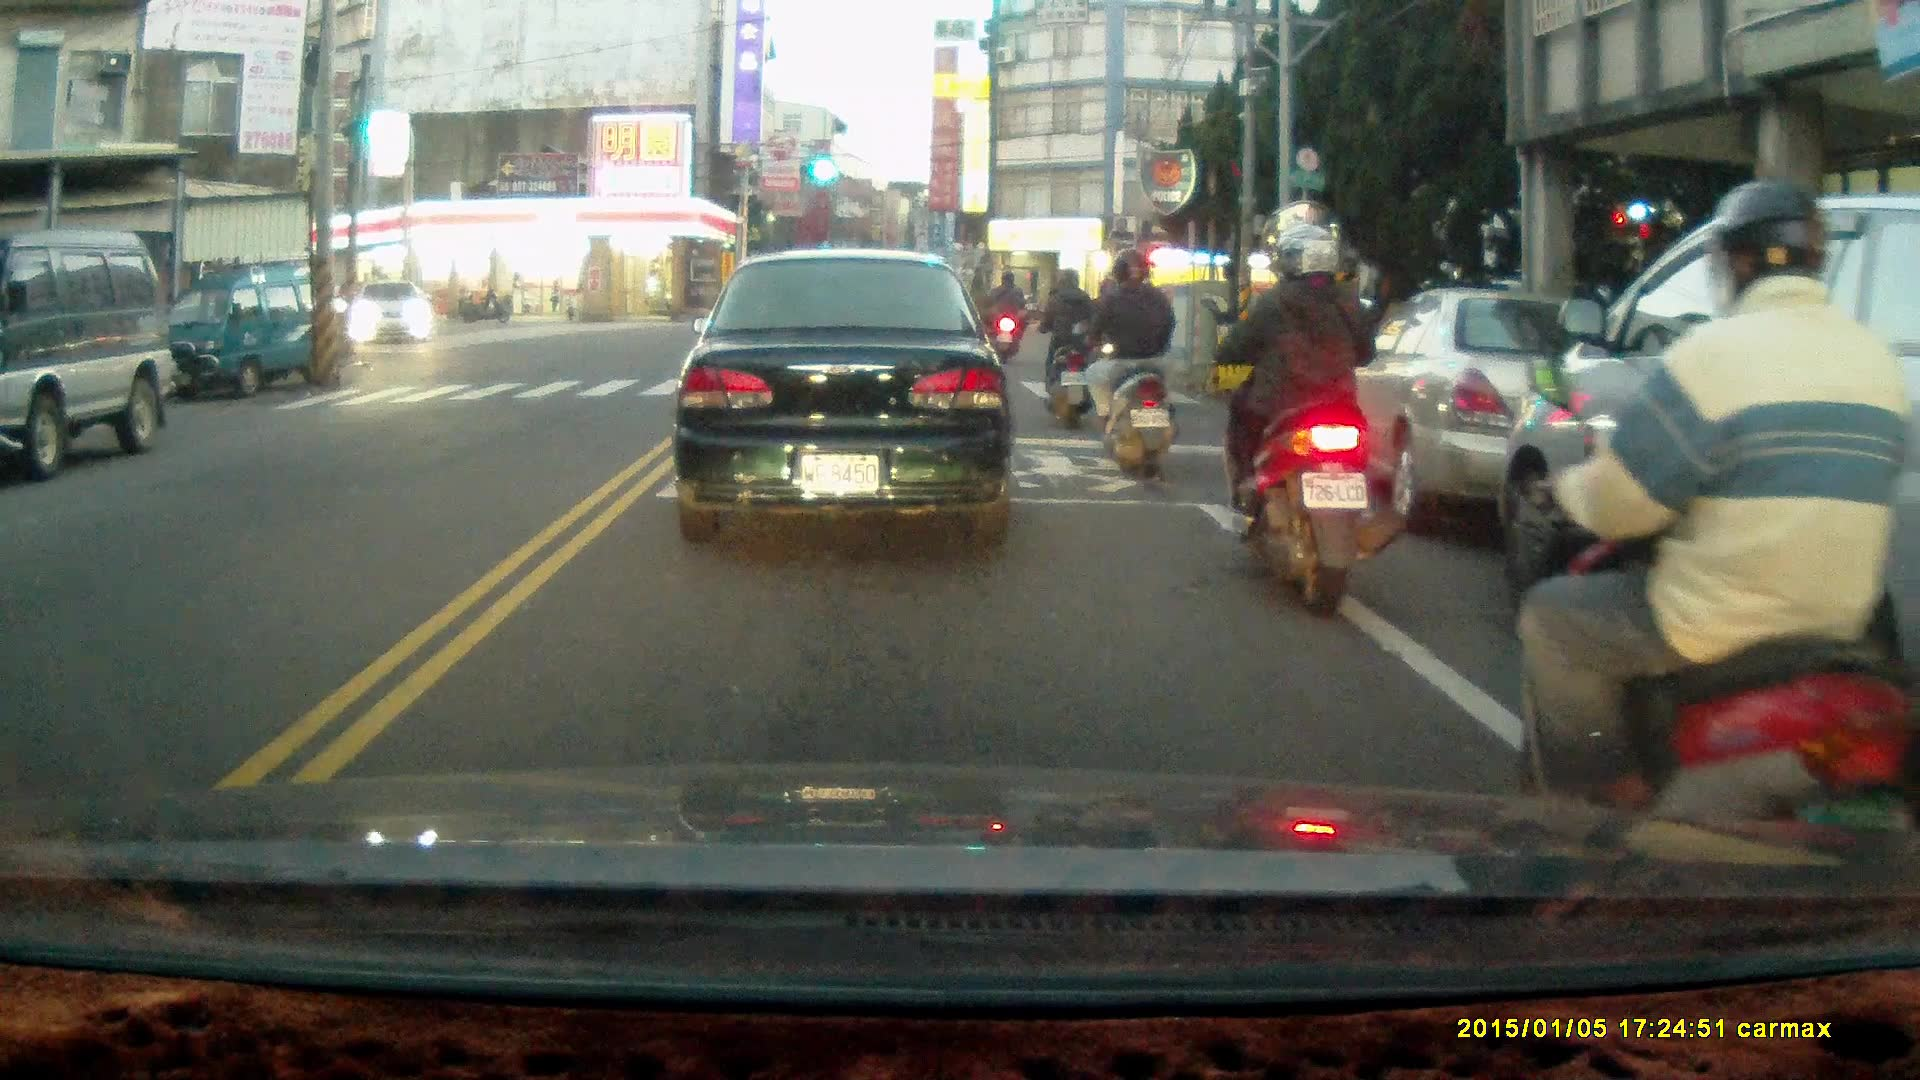rider: (1512, 177, 1911, 886), (1209, 220, 1400, 622), (1065, 249, 1173, 482), (1025, 266, 1099, 426), (986, 273, 1029, 365)
vehicle: (1504, 195, 1920, 822), (676, 250, 1019, 545), (1310, 288, 1687, 531), (1, 234, 165, 471), (150, 263, 347, 405), (352, 283, 437, 351)
